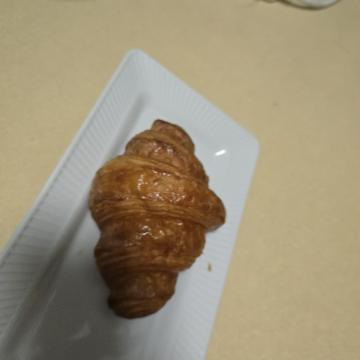croissant: (116, 126, 330, 278)
